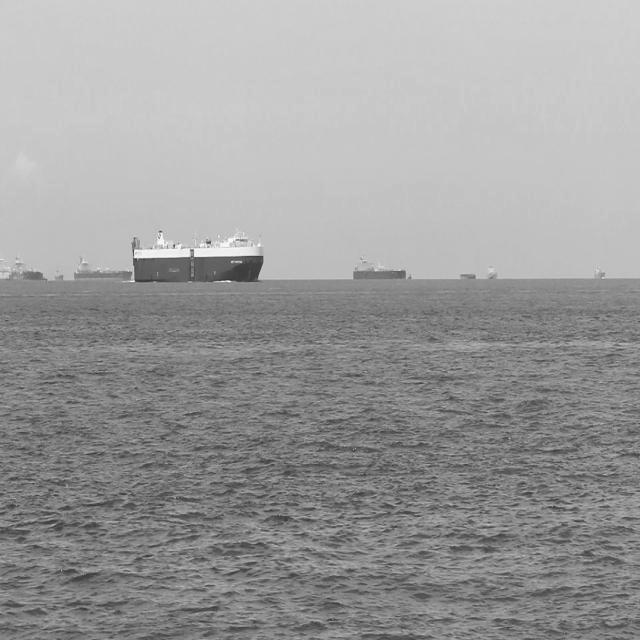ship: (132, 233, 265, 283), (349, 252, 406, 282), (8, 250, 44, 288), (71, 256, 131, 278), (0, 257, 15, 285), (482, 262, 500, 284), (458, 268, 478, 284), (592, 261, 607, 282), (54, 264, 66, 286), (43, 268, 52, 288), (402, 272, 414, 282)
